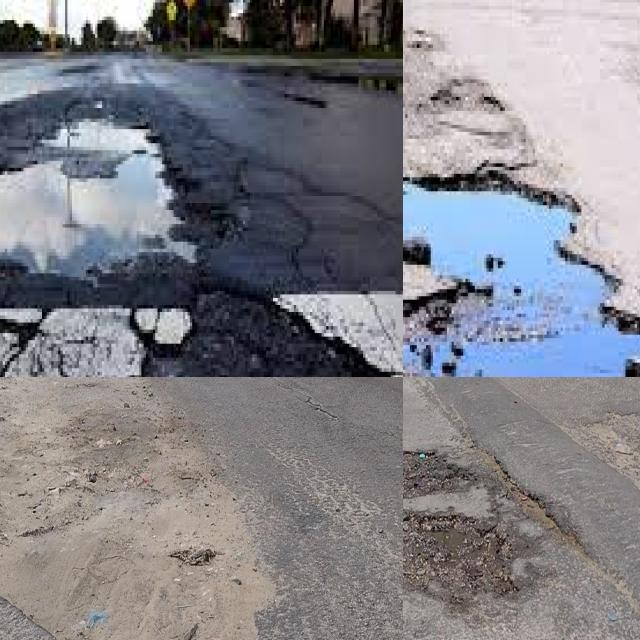Pothole: (403, 182, 640, 377), (0, 122, 243, 311), (403, 513, 510, 603), (0, 490, 41, 589), (403, 448, 458, 502)
